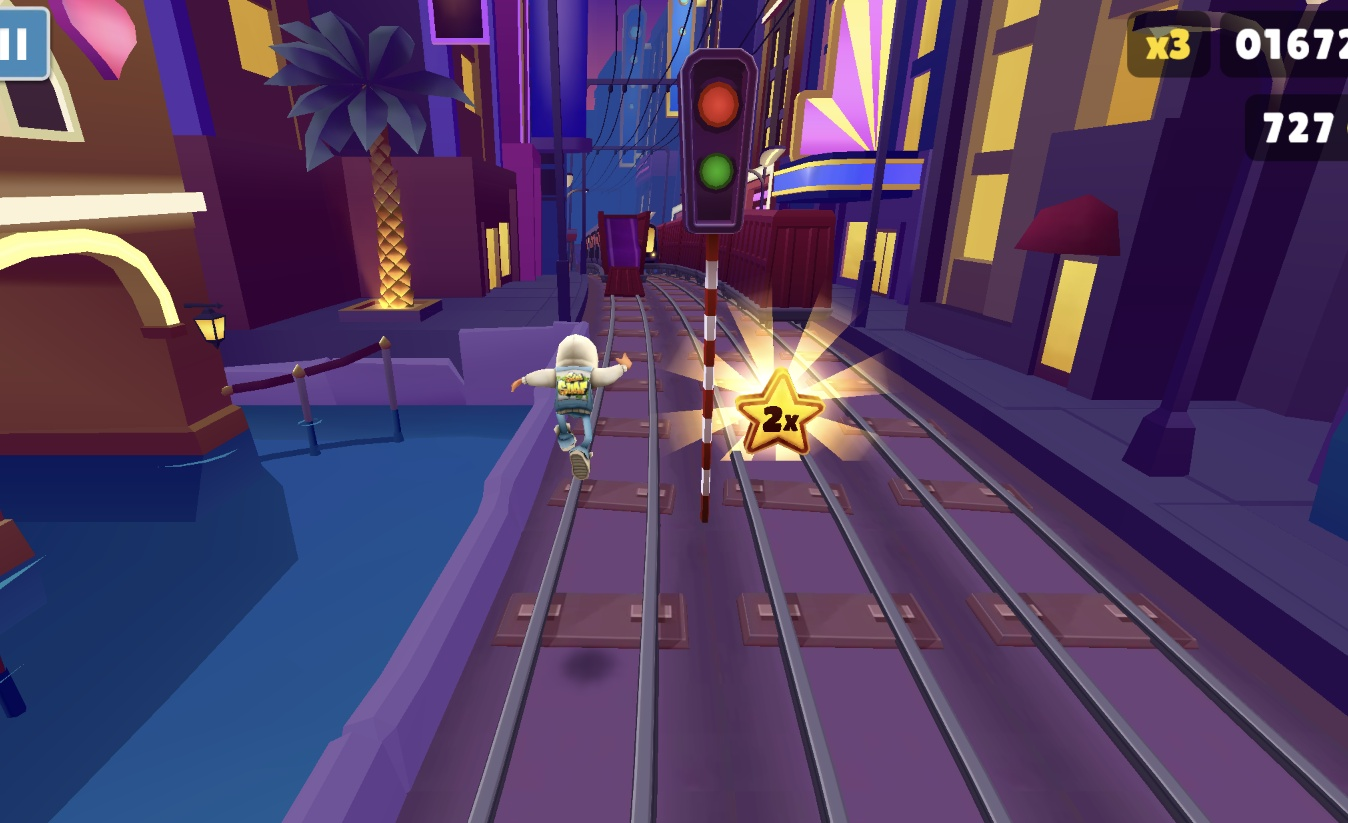train: (648, 211, 839, 324), (591, 213, 653, 297)
